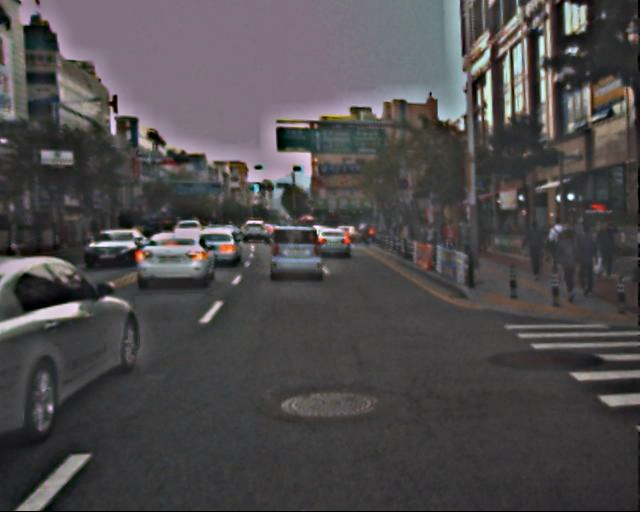person: (417, 213, 488, 259), (550, 229, 581, 304), (570, 227, 598, 295), (591, 220, 616, 282), (521, 219, 546, 279), (542, 217, 566, 276)
